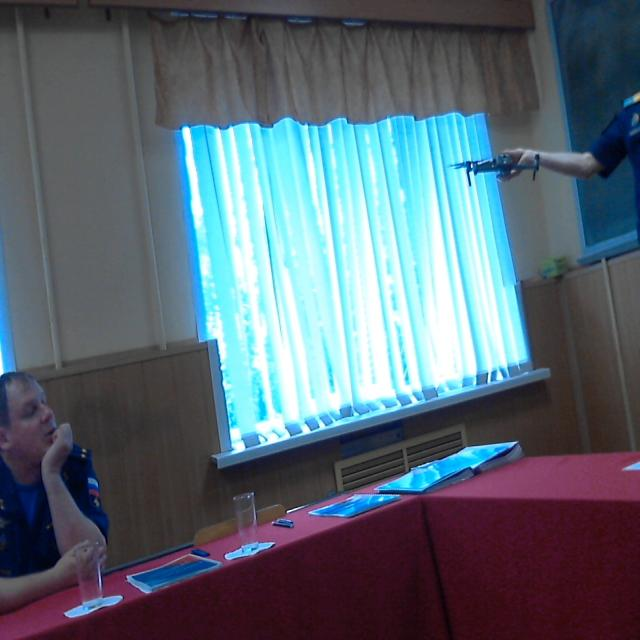drone: (445, 135, 563, 192)
